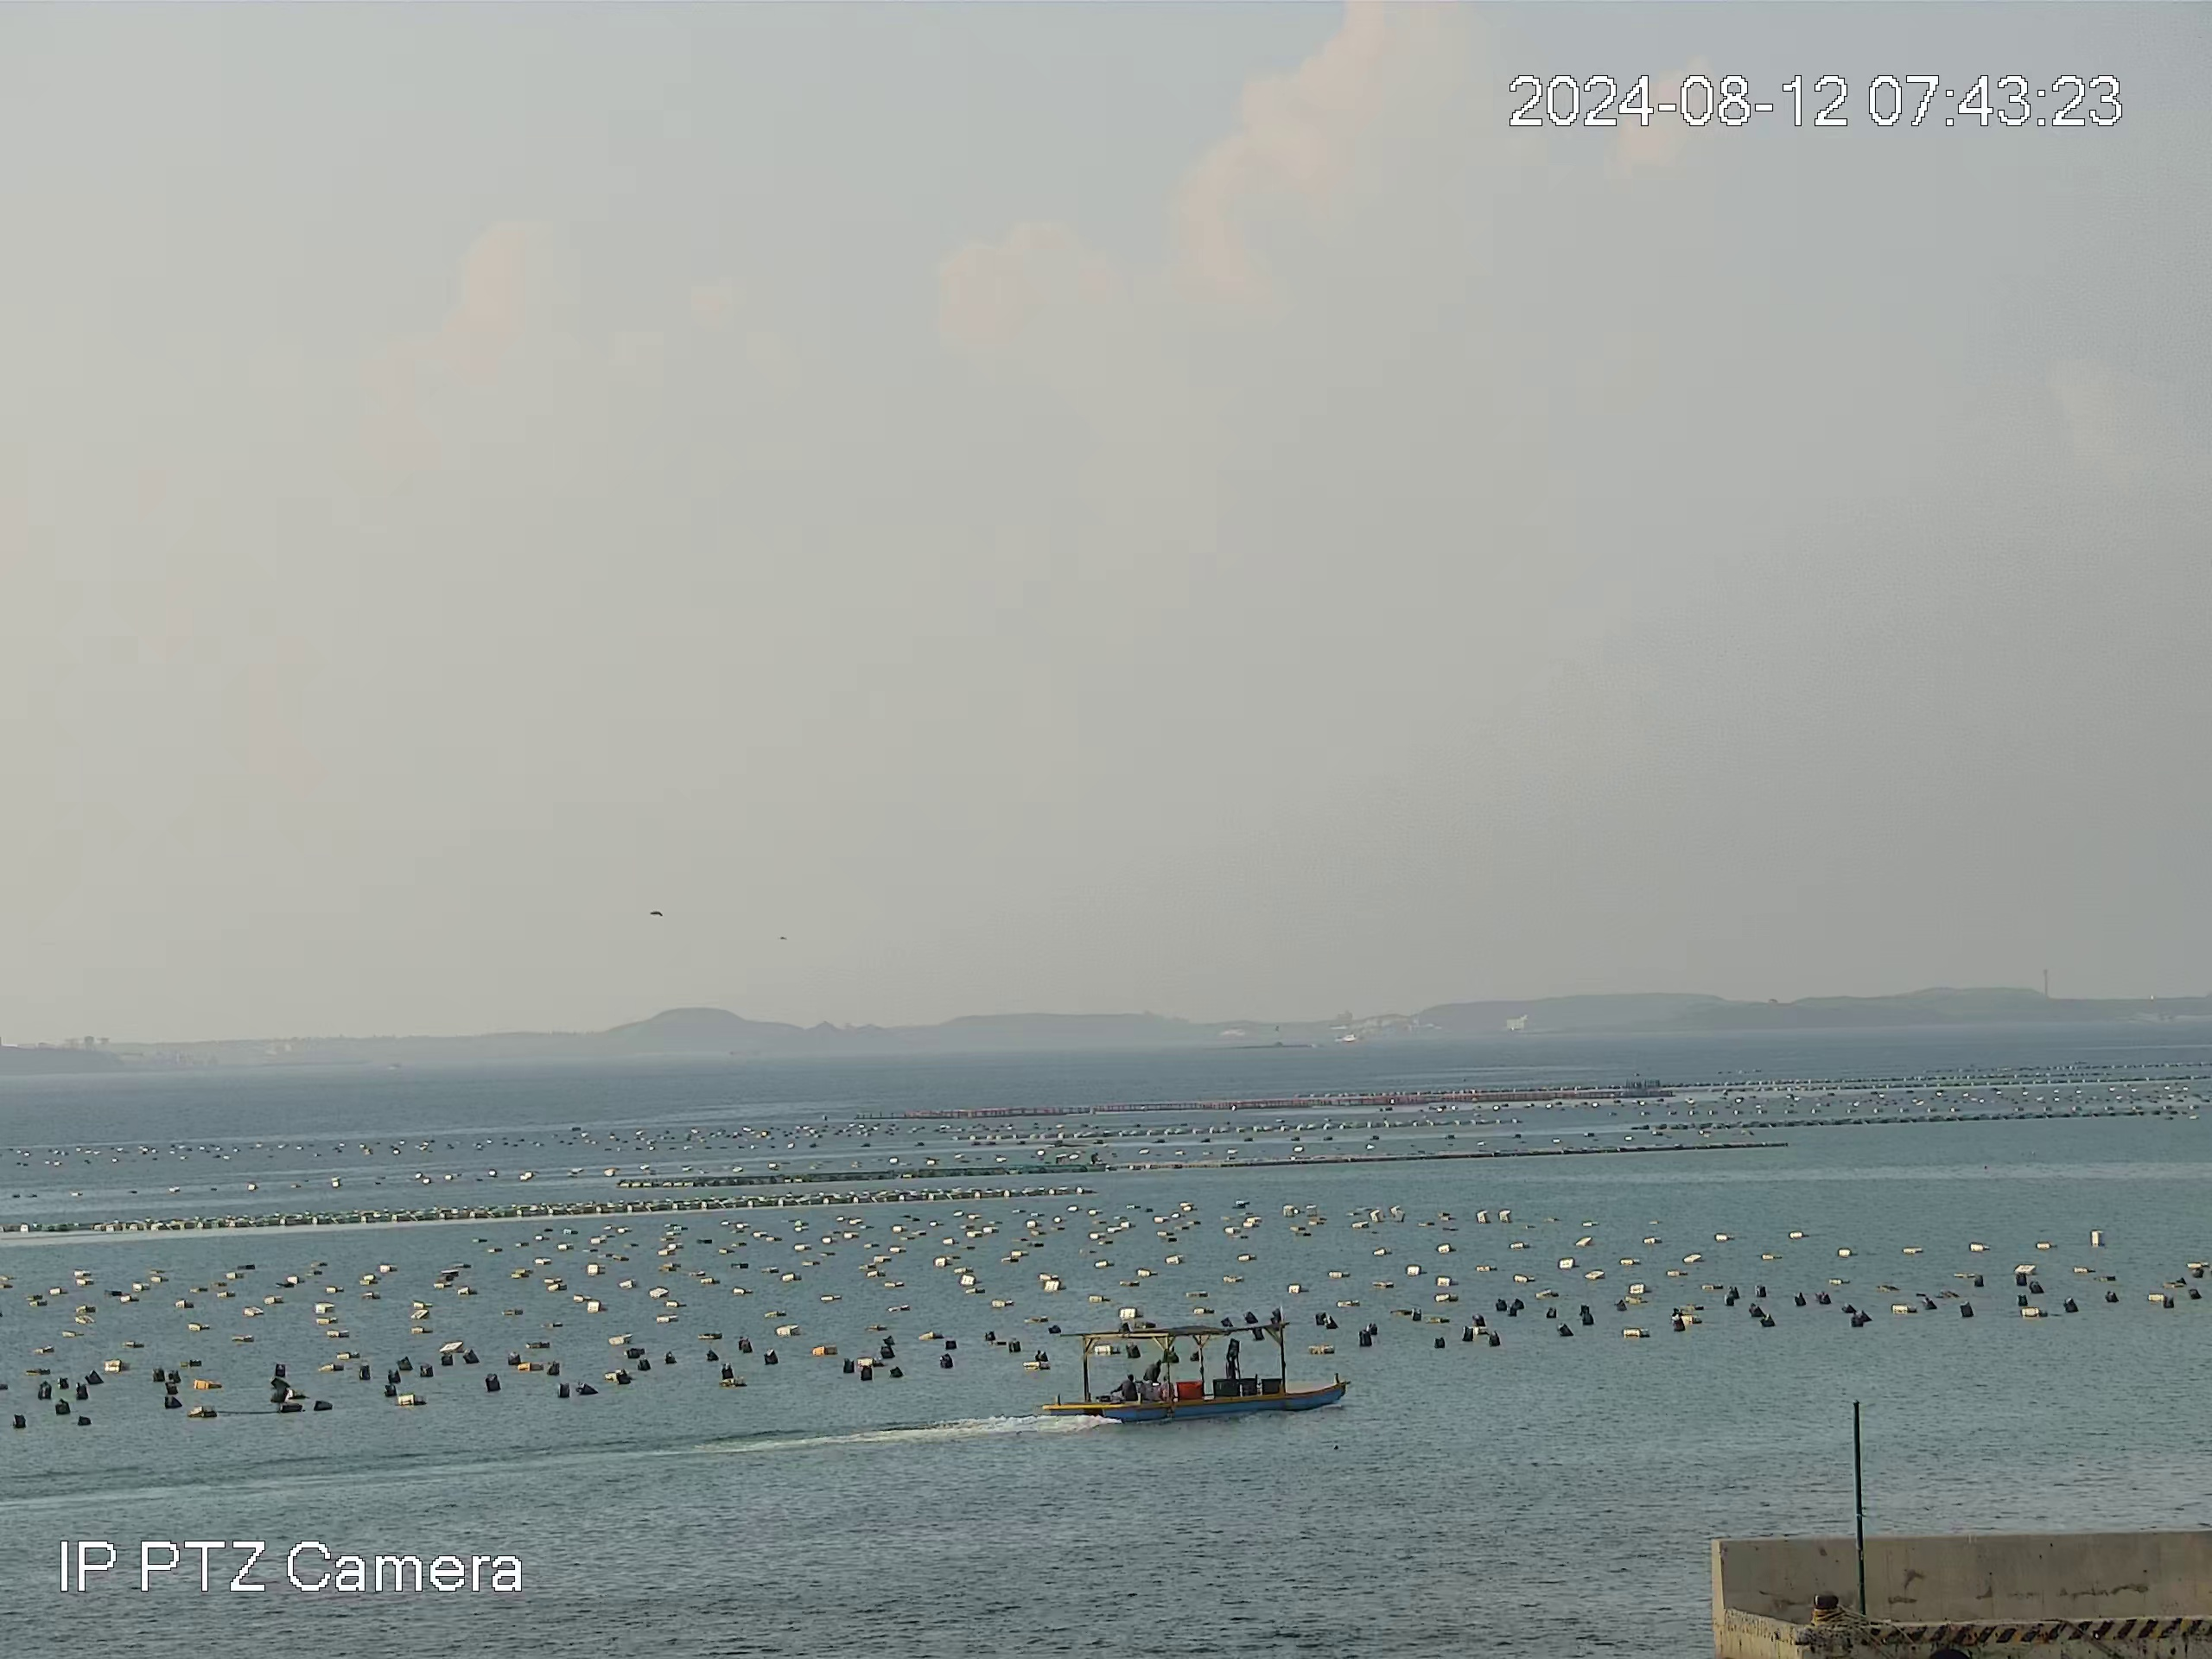boat: (1038, 1316, 1351, 1417)
